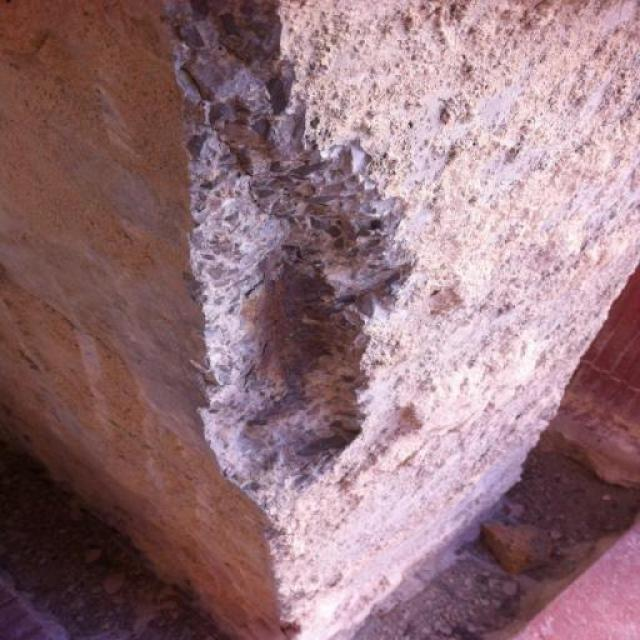D10: (162, 0, 419, 512)
